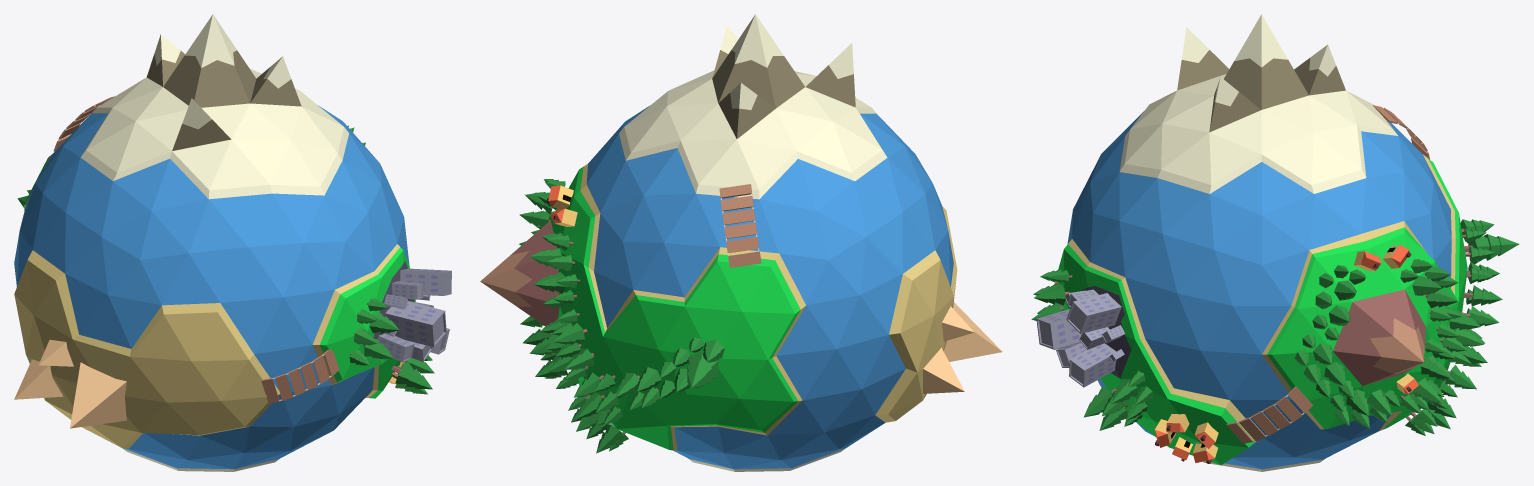
The picture shows the model from 3 angles, left to right: view 1: azimuth 30°, elevation 25°; view 2: azimuth 150°, elevation 25°; view 3: azimuth 270°, elevation 25°; orthographic projection.
Parts seen in each view (by area): view 1: Planet, Cone.003, Building, Cube.002, Cone.001, Building.004, Cone.002, Building.007, Cylinder.007, Building.005, Cube; view 2: Planet, Cube, Cone.003, Cone.001, Cone.236, Cone.002; view 3: Planet, Cube.001, Building.004, Building.001, Building, Cone.236.
Boxes of the visible parts, x1=… form: Planet: x1=14, y1=14, x2=415, y2=471; Cone.003: x1=70, y1=362, x2=126, y2=428; Building: x1=385, y1=301, x2=446, y2=347; Cube.002: x1=261, y1=348, x2=339, y2=403; Cone.001: x1=14, y1=359, x2=63, y2=399; Building.004: x1=400, y1=268, x2=451, y2=295; Cone.002: x1=39, y1=339, x2=73, y2=366; Building.007: x1=377, y1=333, x2=414, y2=362; Cylinder.007: x1=391, y1=361, x2=432, y2=389; Building.005: x1=392, y1=281, x2=423, y2=299; Cube: x1=53, y1=96, x2=114, y2=151; Planet: x1=480, y1=14, x2=957, y2=471; Cube: x1=719, y1=184, x2=761, y2=267; Cone.003: x1=943, y1=302, x2=1002, y2=361; Cone.001: x1=923, y1=347, x2=964, y2=393; Cone.236: x1=687, y1=351, x2=718, y2=388; Cone.002: x1=942, y1=306, x2=974, y2=341; Planet: x1=1057, y1=14, x2=1467, y2=471; Cube.001: x1=1226, y1=386, x2=1313, y2=443; Building.004: x1=1066, y1=293, x2=1121, y2=333; Building.001: x1=1069, y1=343, x2=1116, y2=387; Building: x1=1036, y1=309, x2=1081, y2=349; Cone.236: x1=1464, y1=234, x2=1519, y2=263.
Bounding box in the file's own units: 235 × 245 × 246.
